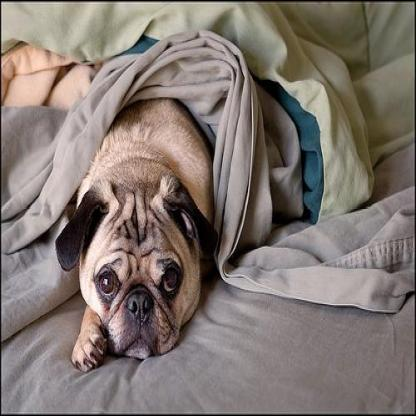pug: (70, 77, 216, 388)
